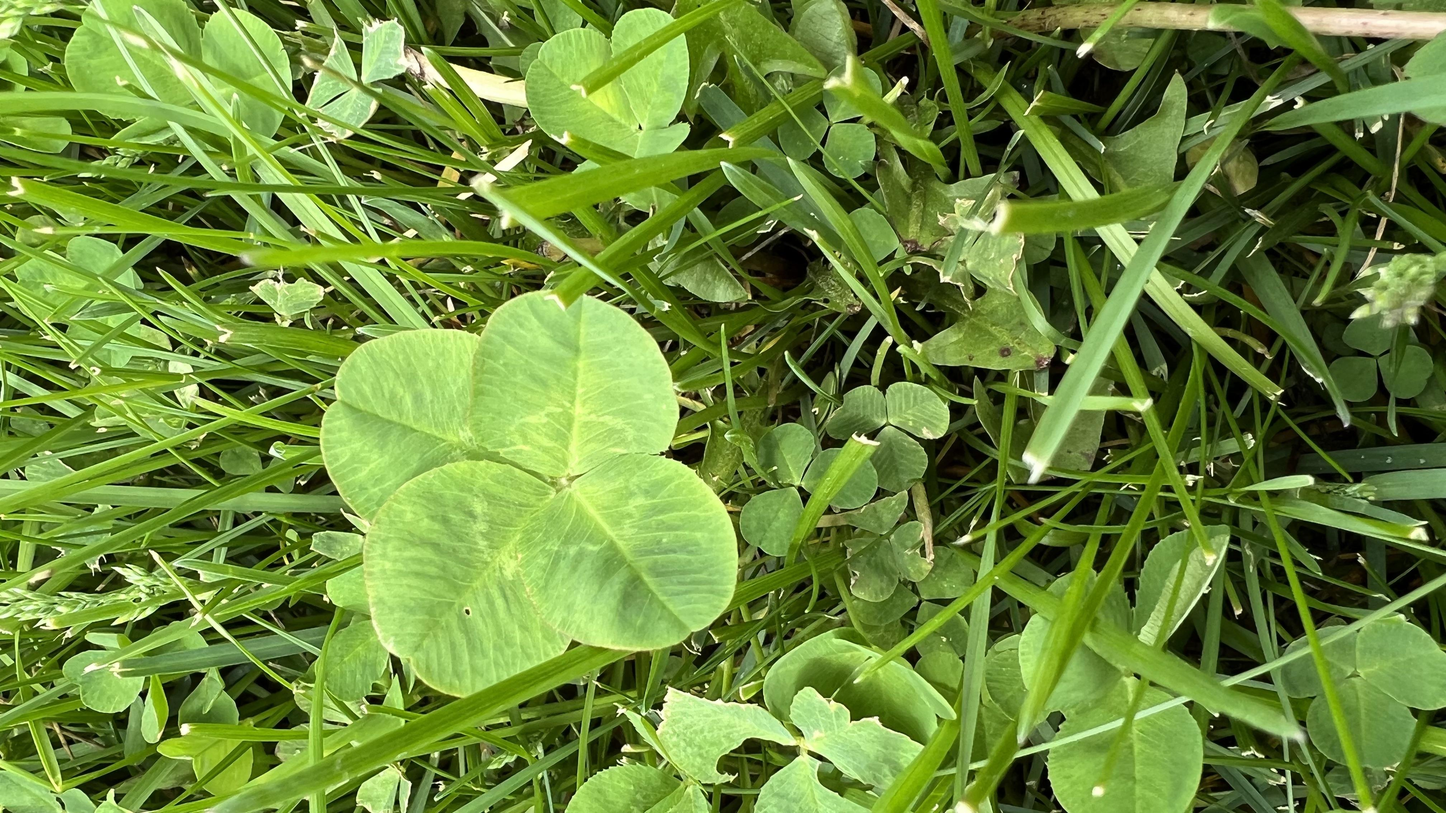4-Leaf-Clovers: (316, 290, 737, 691)
